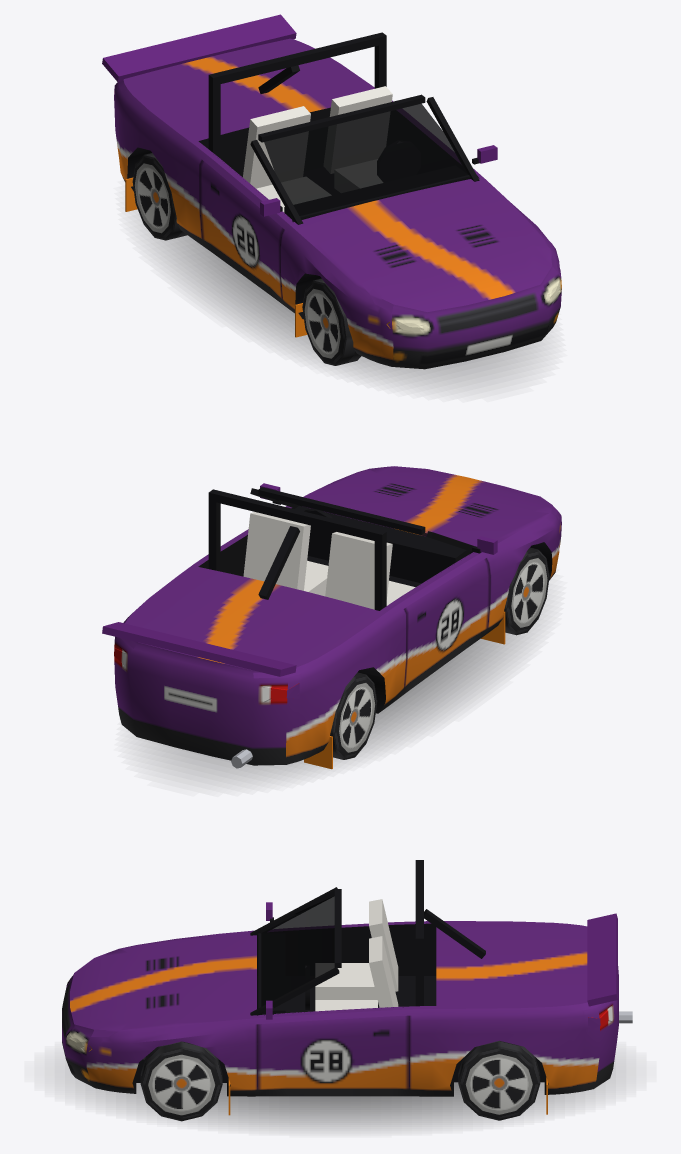
The model's file is fornalha.glb.
3 renders of one model, top to bottom at view 1: azimuth 30°, elevation 25°; view 2: azimuth 150°, elevation 25°; view 3: azimuth 270°, elevation 25°, orthographic. The views are drawn at different scales.
Parts seen in each view (by area): view 1: Carroceria, Capo_malha, Tampa_malha, Sombra, Porta_D_malha, Roda_DD, Roda_TD, Porta_E_malha, Farol; view 2: Carroceria, Tampa_malha, Capo_malha, Sombra, Porta_D_malha, Roda_TD, Roda_DD, Porta_E_malha, Lanterna; view 3: Carroceria, Tampa_malha, Capo_malha, Sombra, Porta_E_malha, Roda_DE, Roda_TE, Porta_D_malha.
Boxes of the visible parts, x1,y1,x2,y2 form: Carroceria: (114,32,561,369); Capo_malha: (303,185,557,312); Tampa_malha: (102,14,369,138); Sombra: (145,228,536,387); Porta_D_malha: (200,160,283,297); Roda_DD: (302,278,361,365); Roda_TD: (132,153,187,240); Porta_E_malha: (395,110,497,173); Farol: (386,280,561,334); Carroceria: (114,469,561,769); Tampa_malha: (102,526,375,678); Capo_malha: (309,466,557,543); Sombra: (143,623,536,781); Porta_D_malha: (404,536,497,686); Roda_TD: (330,672,377,759); Roda_DD: (504,547,549,635); Porta_E_malha: (220,483,293,576); Lanterna: (114,647,299,702); Carroceria: (62,860,632,1115); Tampa_malha: (424,909,617,1010); Capo_malha: (75,934,241,1037); Sombra: (65,1059,615,1129); Porta_E_malha: (258,1000,408,1089); Roda_DE: (140,1041,222,1121); Roda_TE: (458,1040,540,1120); Porta_D_malha: (266,902,408,975).
Size of the model in its own units: 2.36 by 1.42 by 4.77.
Materials: 13 (5 with a texture image).
